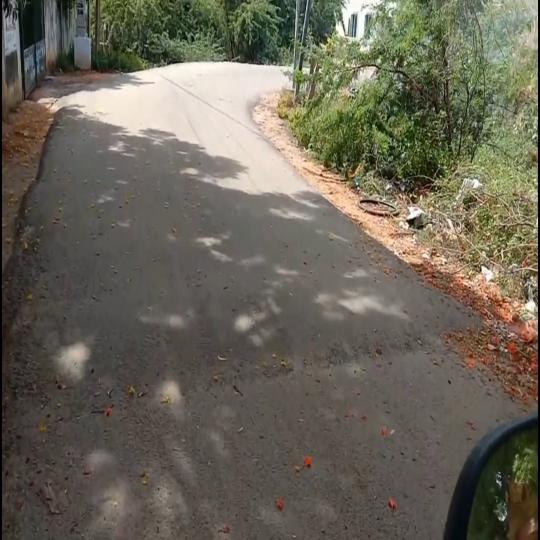Speed Bump: (0, 266, 495, 368)
